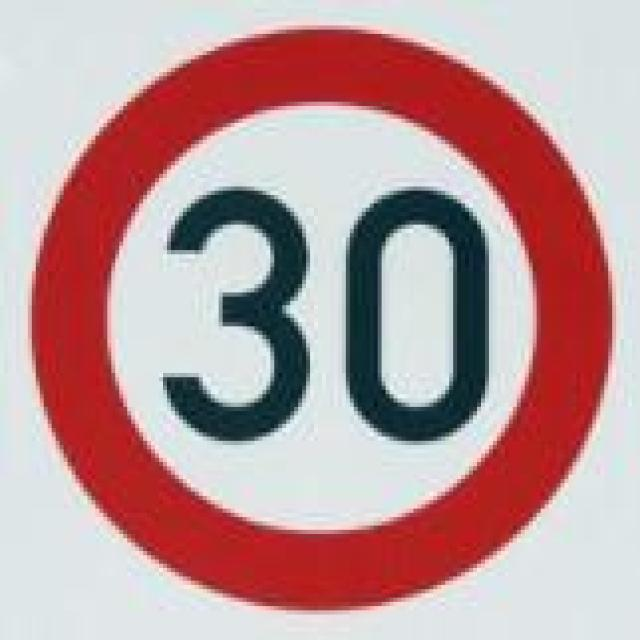speed_limit_30: (28, 26, 604, 610)
